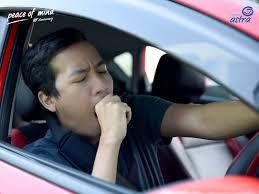Drowsy: (6, 33, 135, 166)
